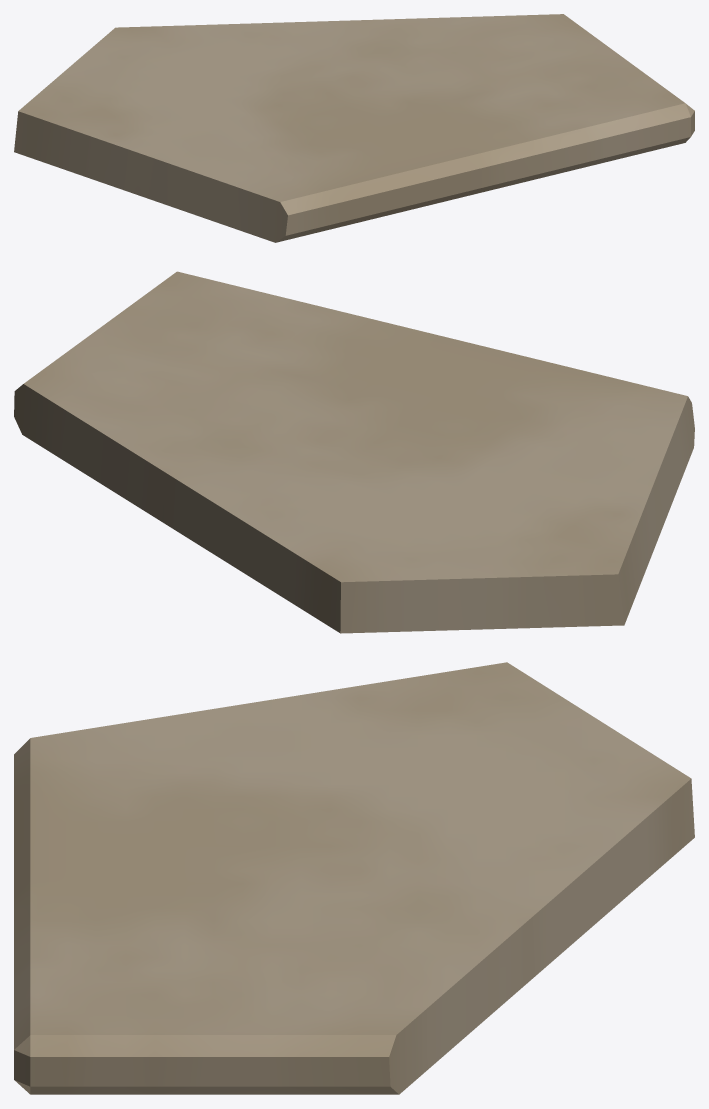
Rendered from Mesh_Tile_02.fbx.
3 views of the same model, one above another, from view 1: azimuth 30°, elevation 25°; view 2: azimuth 150°, elevation 25°; view 3: azimuth 270°, elevation 25° (orthographic). The views are drawn at different scales.
Parts seen in each view (by area): view 1: Tile_02; view 2: Tile_02; view 3: Tile_02.
Boxes of the visible parts, x1,y1,x2,y2 form: Tile_02: [14, 14, 694, 242]; Tile_02: [14, 271, 694, 633]; Tile_02: [14, 662, 694, 1094].
Bounding box in the file's own units: 26.42 × 1.92 × 19.85.
1 material, 1 textured.
